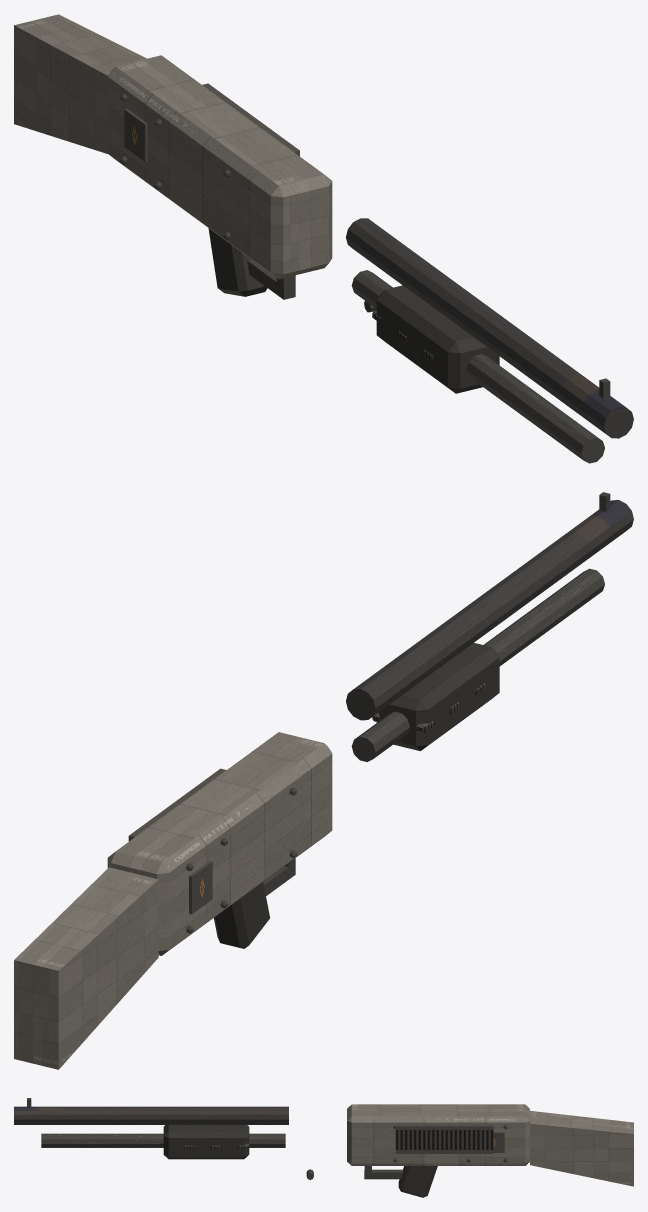
Rendered from np_shotgun.obj.
3 renders of one model, top to bottom at view 1: azimuth 30°, elevation 25°; view 2: azimuth 150°, elevation 25°; view 3: azimuth 270°, elevation 25°, orthographic. The views are drawn at different scales.
Parts seen in each view (by area): view 1: np_shotgun; view 2: np_shotgun; view 3: np_shotgun.
Part boxes in pixels (bbox=[...]): np_shotgun: bbox=[14, 14, 633, 463]; np_shotgun: bbox=[14, 492, 633, 1069]; np_shotgun: bbox=[14, 1098, 633, 1197].
Size of the model in its own units: 0.0792 by 0.1741 by 1.01.
1 material, 1 textured.
